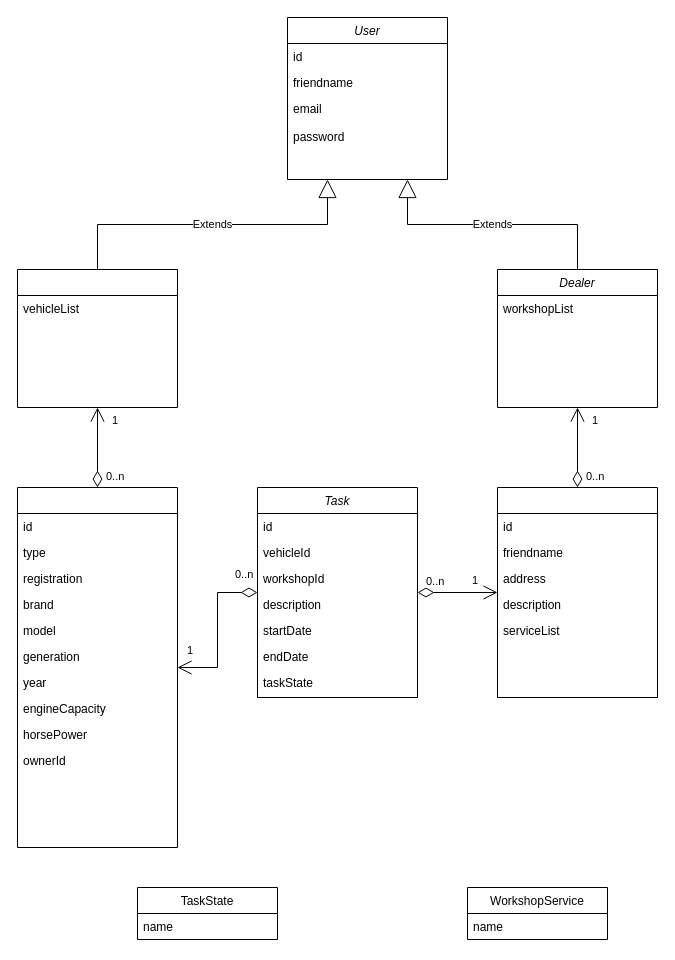
The diagram is 675 pixels wide and 960 high, and some of its shapes have lost their labels. Each missing label, with the box of its shape:
Client: (16, 268, 178, 408)
Vahicle: (16, 486, 178, 848)
Workshop: (496, 486, 658, 698)
